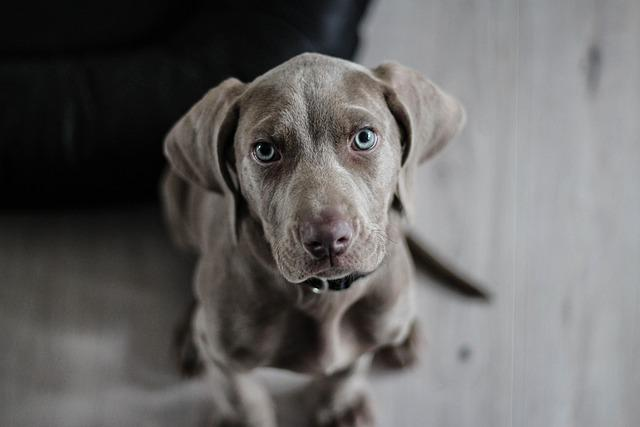Non_Gorille: (152, 30, 484, 427)
